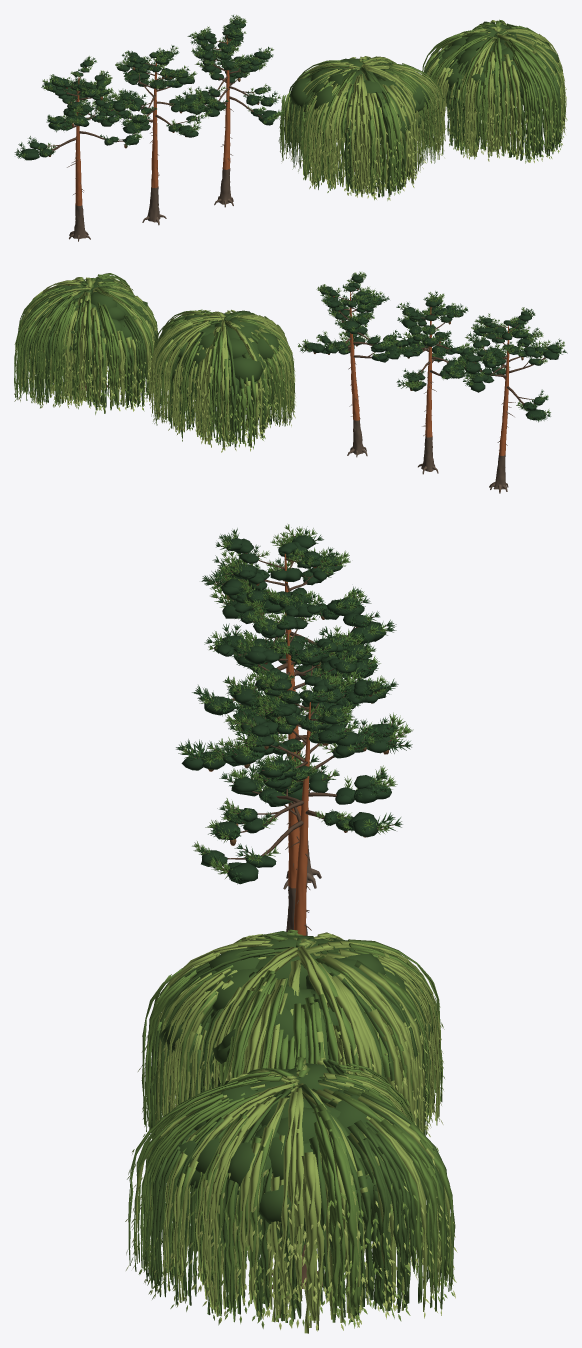
File: Arbres.fbx
The picture shows the model from 3 angles, top to bottom: view 1: azimuth 30°, elevation 25°; view 2: azimuth 150°, elevation 25°; view 3: azimuth 270°, elevation 25°; orthographic projection. The views are drawn at different scales.
Visible parts, largest first — view 1: Saule2_RameauxClairs, Saule1_Rameaux, Saule2_Rameaux, Saule1_RameauxClairs, Saule2_RameauxSombres, Pin1_AiguillesSombres, Saule1_RameauxSombres, Pin2_AiguillesSombres, Pin3_AiguillesSombres, Saule2_Feuillage, Saule1_Feuillage, Pin3_Aiguilles (+18 smaller); view 2: Saule1_Rameaux, Saule2_RameauxClairs, Saule2_Rameaux, Saule1_RameauxClairs, Saule1_RameauxSombres, Saule2_RameauxSombres, Pin3_AiguillesSombres, Saule2_Feuillage, Pin2_AiguillesSombres, Pin1_AiguillesSombres, Saule1_Feuillage, Pin3_Aiguilles (+18 smaller); view 3: Saule1_RameauxClairs, Saule1_Rameaux, Saule2_RameauxClairs, Saule1_RameauxSombres, Saule2_Rameaux, Pin1_AiguillesSombres, Pin2_AiguillesSombres, Pin3_AiguillesSombres, Saule1_Feuillage, Saule2_RameauxSombres, Saule2_Feuillage, Pin1_AiguillesClaires (+10 smaller).
Boxes of the visible parts, x1,y1,x2,y2 form: Saule2_RameauxClairs: [282, 56, 443, 196]; Saule1_Rameaux: [422, 19, 565, 161]; Saule2_Rameaux: [279, 57, 443, 196]; Saule1_RameauxClairs: [426, 20, 566, 162]; Saule2_RameauxSombres: [284, 58, 428, 197]; Pin1_AiguillesSombres: [184, 20, 277, 125]; Saule1_RameauxSombres: [424, 21, 562, 160]; Pin2_AiguillesSombres: [96, 51, 201, 137]; Pin3_AiguillesSombres: [21, 61, 138, 160]; Saule2_Feuillage: [289, 58, 429, 139]; Saule1_Feuillage: [433, 24, 562, 110]; Pin3_Aiguilles: [14, 57, 139, 158]; Saule1_Rameaux: [14, 273, 158, 413]; Saule2_RameauxClairs: [150, 309, 294, 449]; Saule2_Rameaux: [151, 309, 294, 446]; Saule1_RameauxClairs: [17, 277, 157, 409]; Saule1_RameauxSombres: [20, 277, 157, 410]; Saule2_RameauxSombres: [153, 311, 292, 447]; Pin3_AiguillesSombres: [463, 311, 560, 420]; Saule2_Feuillage: [161, 310, 285, 400]; Pin2_AiguillesSombres: [396, 297, 474, 391]; Pin1_AiguillesSombres: [304, 274, 400, 362]; Saule1_Feuillage: [26, 277, 156, 366]; Pin3_Aiguilles: [459, 308, 567, 422]; Saule1_RameauxClairs: [136, 1059, 451, 1333]; Saule1_Rameaux: [128, 1057, 455, 1322]; Saule2_RameauxClairs: [152, 932, 440, 1139]; Saule1_RameauxSombres: [143, 1059, 450, 1321]; Saule2_Rameaux: [141, 929, 442, 1137]; Pin1_AiguillesSombres: [201, 675, 391, 884]; Pin2_AiguillesSombres: [181, 601, 396, 770]; Pin3_AiguillesSombres: [204, 535, 386, 715]; Saule1_Feuillage: [161, 1063, 427, 1244]; Saule2_RameauxSombres: [149, 936, 431, 1138]; Saule2_Feuillage: [159, 931, 433, 1086]; Pin1_AiguillesClaires: [192, 667, 397, 878].
Bounding box in the file's own units: 103 × 33.23 × 28.03.
